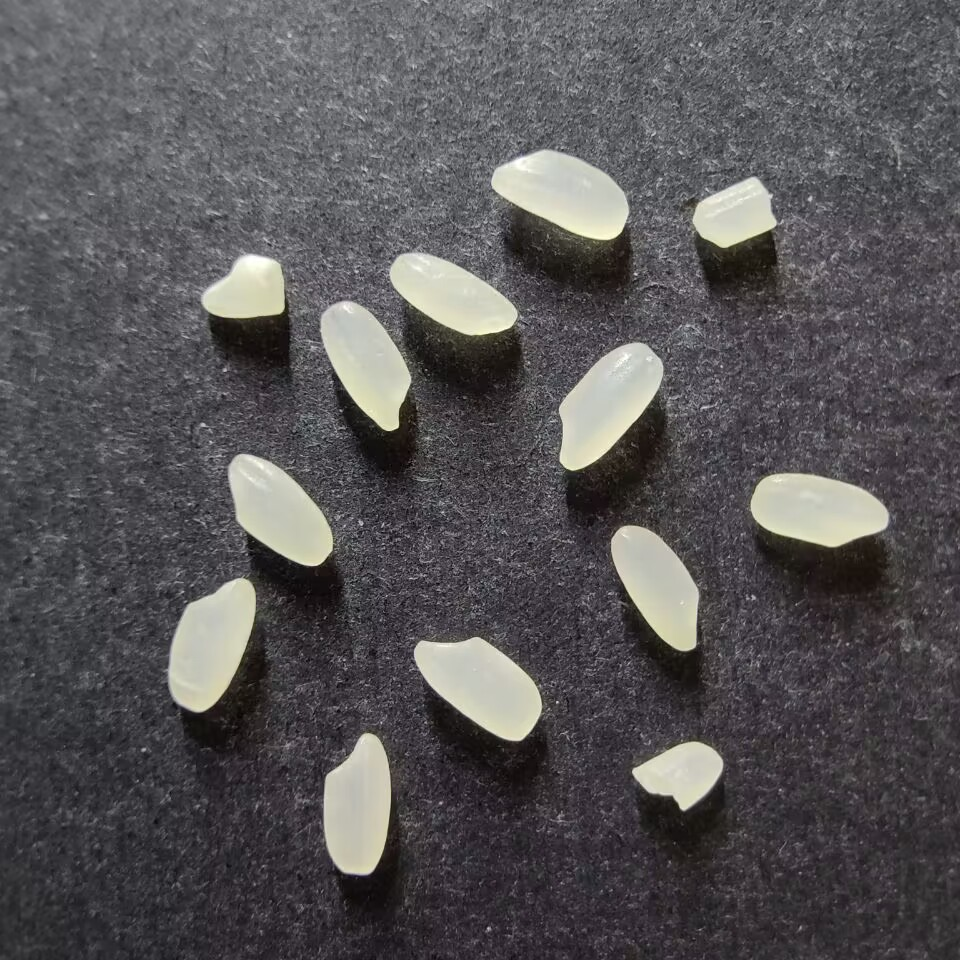broken: (630, 741, 724, 811), (692, 176, 777, 248), (200, 253, 286, 319)
rice: (557, 341, 665, 472), (412, 636, 543, 743), (490, 149, 629, 241), (167, 577, 257, 714), (320, 300, 413, 432), (227, 452, 333, 567), (610, 524, 699, 653), (389, 251, 518, 337), (749, 472, 889, 548), (322, 732, 392, 876)
